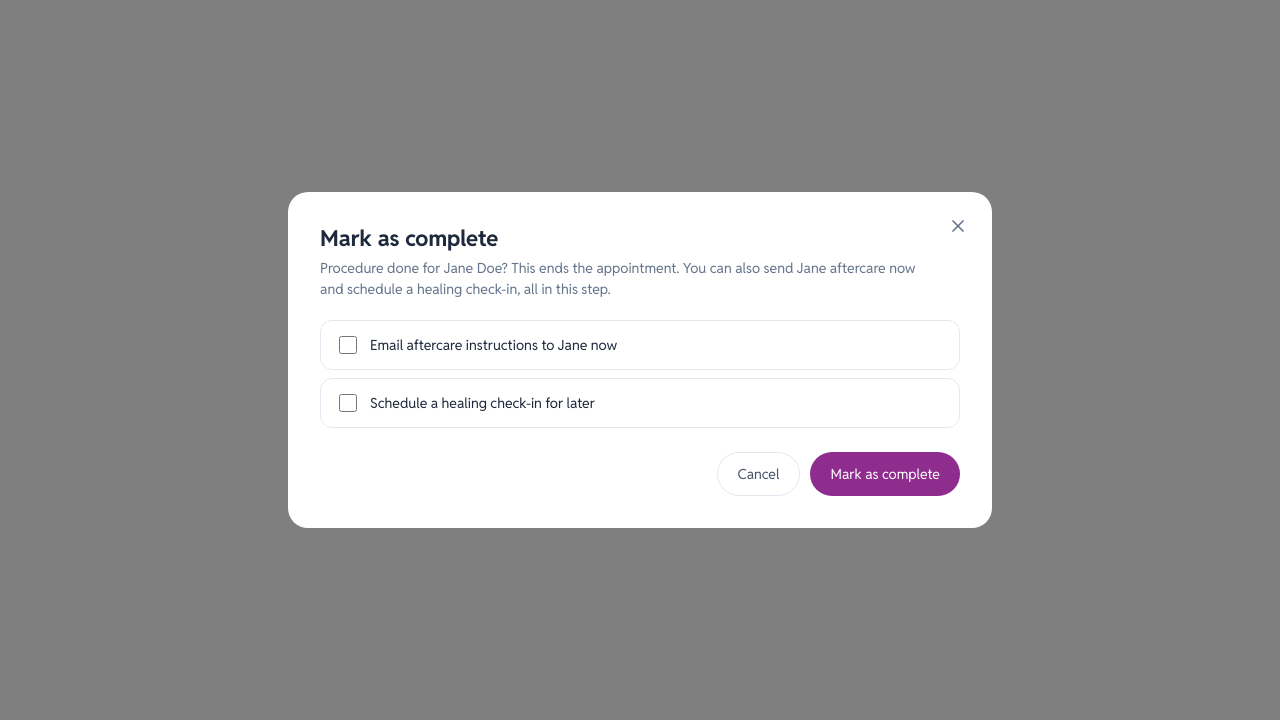
it: CareMessageModal › healing check-in in the same step › says what didn't go through when the check-in fails after completing
Later steps or results of the test are not shown.
Click the checkbox labelled "Schedule a healing check-in for later".
click(348, 403)  # box [339,394,357,412]
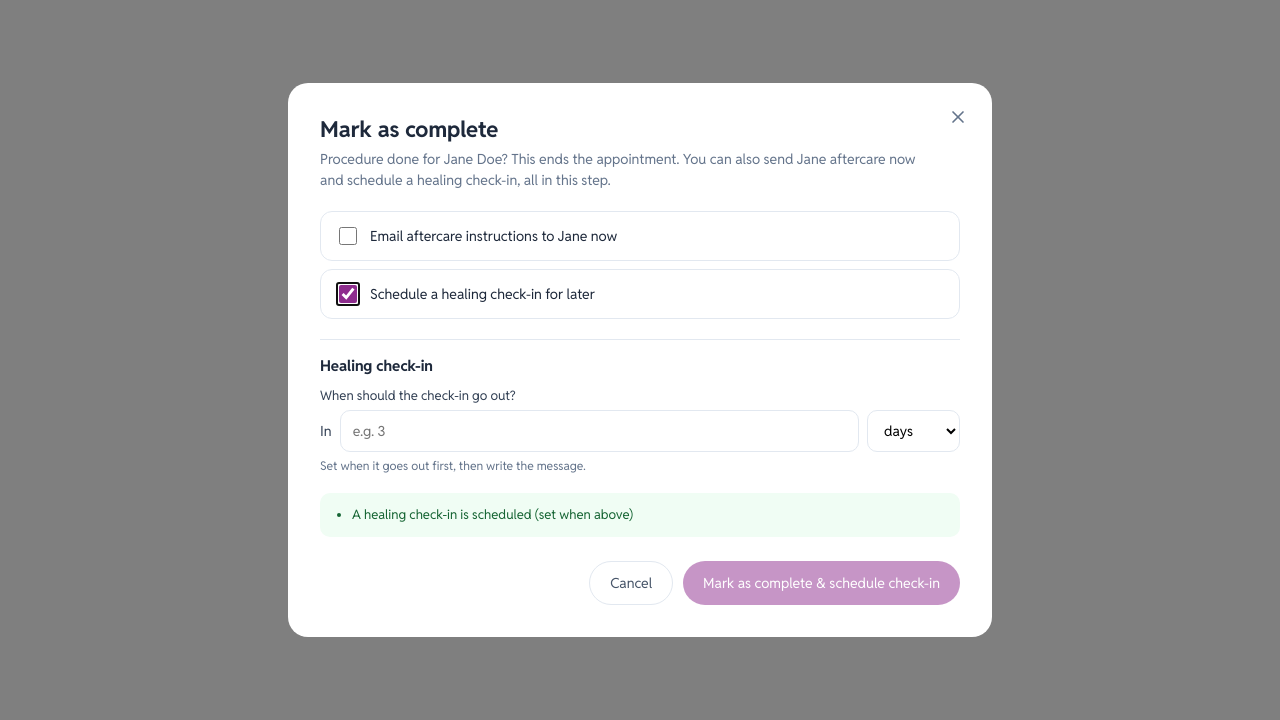
Type "3" into the number field named "How many".
click(599, 431); type("3")  # box [340,410,859,452]
(page scrolled)
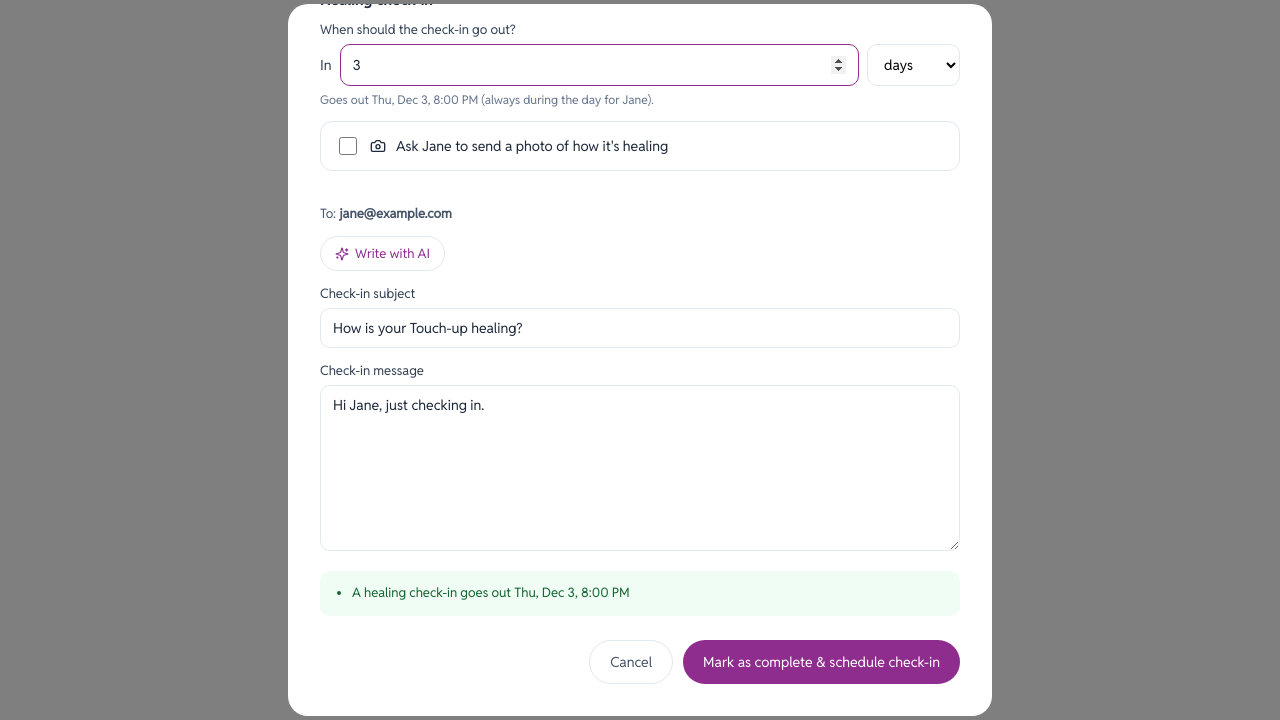
Expected: the text box labelled "Check-in message" is not empty, [320,385,960,551]
